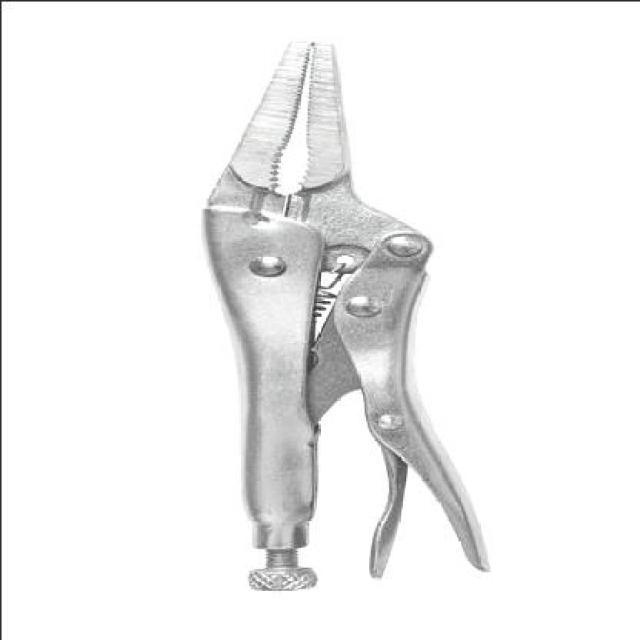pliers: (180, 33, 494, 592)
